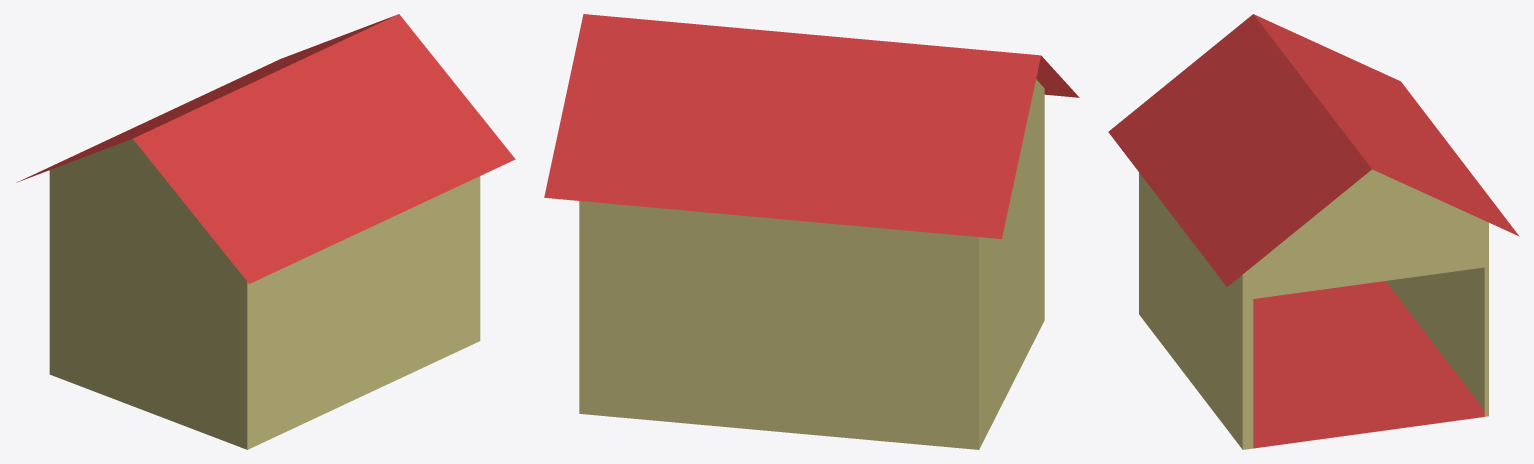
3 renders of one model, left to right at view 1: azimuth 30°, elevation 25°; view 2: azimuth 150°, elevation 25°; view 3: azimuth 270°, elevation 25°, orthographic. The views are drawn at different scales.
Size of the model in its own units: 18.9 by 16.83 by 12.35.
